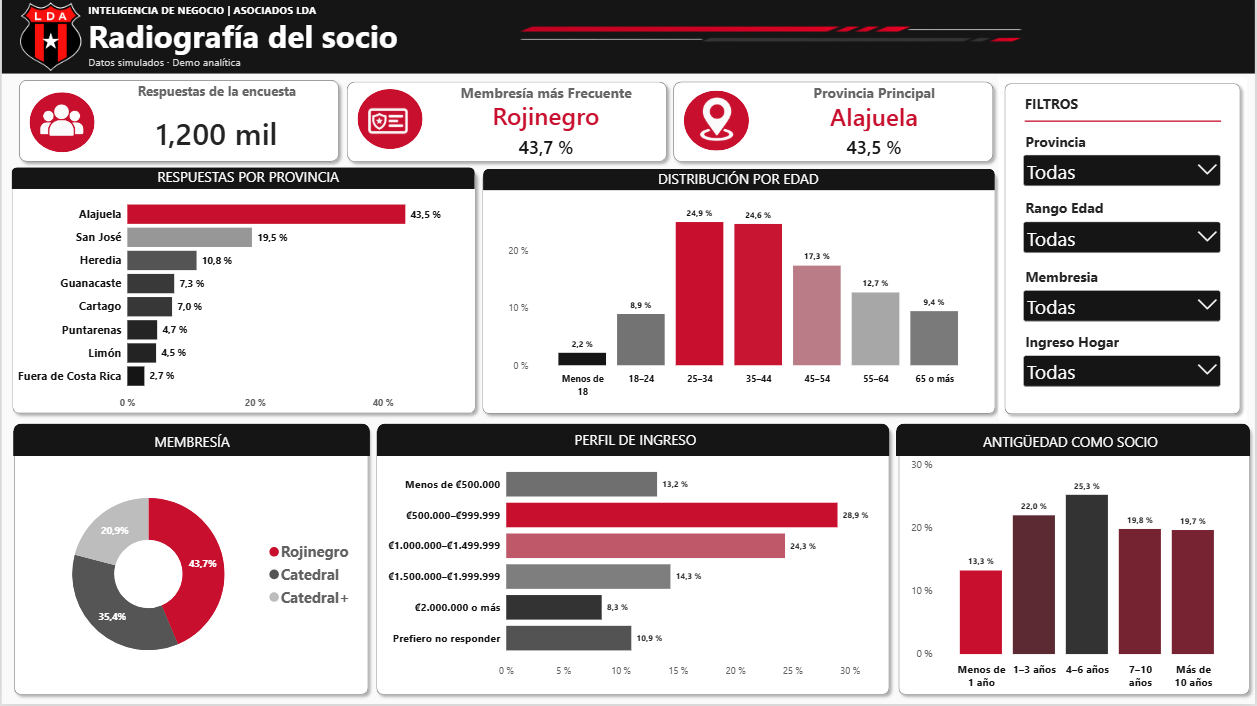

The dashboard page shown, as its layout file describes it:
{"tool":"powerbi","page":{"name":"Radiografía del socio","canvas":[1920,1080],"ordinal":0},"visuals":[{"type":"group","id":"g1","title":"Grupo 1","box":[1527.9,119.3,379.4,524.9],"z":0,"group":"g11"},{"type":"shape","title":"hdhhdhth","box":[1527.9,119.3,379.4,524.9],"z":0,"group":"g1"},{"type":"group","id":"g2","title":"Grupo 1","box":[7.2,252.9,727.7,391.3],"z":0,"group":"g10"},{"type":"shape","title":"hdhhdhth","box":[7.2,252.9,727.7,391.3],"z":0,"group":"g2"},{"type":"shape","title":"hdhhdhth","box":[726.8,255.3,803.8,389.2],"z":0,"group":"g3"},{"type":"group","id":"g3","title":"Grupo 1","box":[726.8,255.3,803.8,389.2],"z":0,"group":"g9"},{"type":"group","id":"g4","title":"Grupo 1","box":[9.5,644.2,560.7,429.5],"z":0,"group":"g8"},{"type":"shape","title":"hdhhdhth","box":[9.5,644.2,560.7,429.5],"z":0,"group":"g4"},{"type":"shape","title":"hdhhdhth","box":[565.9,644.2,804.1,429.5],"z":0,"group":"g6"},{"type":"group","id":"g5","title":"Grupo 2","box":[565.9,644.2,804.1,429.5],"z":0},{"type":"group","id":"g6","title":"Grupo 1","box":[565.9,644.2,804.1,429.5],"z":0,"group":"g5"},{"type":"group","id":"g7","title":"Grupo 1","box":[1365.5,644.2,555.9,429.5],"z":0,"group":"g12"},{"type":"shape","title":"hdhhdhth","box":[1365.5,644.2,555.9,429.5],"z":0,"group":"g7"},{"type":"shape","box":[15.6,257.6,710,33.5],"z":1000,"group":"g2"},{"type":"textbox","box":[200.4,257.6,355,33.5],"z":1000,"group":"g10"},{"type":"shape","box":[736,259.9,784.2,33.3],"z":1000,"group":"g3"},{"type":"textbox","box":[931.3,259.9,392.1,33.3],"z":1000,"group":"g9"},{"type":"group","id":"g8","title":"Grupo 2","box":[9.5,644.2,560.7,429.5],"z":1000},{"type":"shape","box":[15.7,649.4,546.9,50],"z":1000,"group":"g4"},{"type":"shape","box":[575,649.4,785.3,49.8],"z":1000,"group":"g6"},{"type":"shape","box":[1370.3,649.4,542.9,49.8],"z":1000,"group":"g7"},{"type":"textbox","box":[780.6,658.7,381.6,28.9],"z":1000,"group":"g5"},{"type":"textbox","box":[151.6,660.7,278.1,32.3],"z":1000,"group":"g8"},{"type":"textbox","box":[1443.1,660.7,389.4,35.6],"z":1000,"group":"g12"},{"type":"group","id":"g9","title":"Grupo 2","box":[726.8,255.3,804.1,388.9],"z":2000},{"type":"group","id":"g10","title":"Grupo 2","box":[7.2,252.9,727.7,391.3],"z":3000},{"type":"shape","box":[1021.2,116.9,508.2,140.8],"z":4000},{"type":"shape","box":[520.1,116.9,508.2,140.8],"z":5000},{"type":"shape","box":[16.7,114.5,508.2,143.2],"z":6000},{"type":"shape","box":[0,0,1920.7,114],"z":7000},{"type":"textbox","box":[133.6,4.8,560.7,33.4],"z":8000},{"type":"textbox","box":[133.6,21.5,560.7,64.4],"z":9000},{"type":"textbox","box":[133.6,85.9,248.1,21.5],"z":10000},{"type":"cardVisual","title":"Respuestas de la encuesta","fields":{"Data":["EncuestaSociosTable.Total_Respuestas"]},"box":[152.7,126.5,348.3,112.1],"z":11000},{"type":"cardVisual","title":"Membresía más Frecuente","fields":{"Data":["EncuestaSociosTable.Membresia_Mas_Frecuente","EncuestaSociosTable.%_Membresia_Mas_Frecuente"]},"box":[660.9,126.5,348.3,121.7],"z":12000},{"type":"cardVisual","fields":{"Data":["EncuestaSociosTable.Provincia_Mas_Frecuente"]},"box":[1500.7,205.2,405.6,138.4],"z":13000},{"type":"clusteredBarChart","title":"Respuestas por provincia","fields":{"Category":["EncuestaSociosTable.Provincia"],"Y":["EncuestaSociosTable.%_Respuestas_Provincia"]},"box":[7.5,292.5,707.5,341.5],"z":14000},{"type":"shape","box":[42,143.5,100,92.3],"z":15000},{"type":"clusteredColumnChart","fields":{"Category":["EncuestaSociosTable.Rango_Edad"],"Y":["EncuestaSociosTable.%_Respuestas_Edad"]},"box":[761.1,293.5,758.7,336.4],"z":16000},{"type":"donutChart","fields":{"Category":["EncuestaSociosTable.Membresia"],"Y":["EncuestaSociosTable.Total_Respuestas"]},"box":[26,699,536.5,361.5],"z":17000},{"type":"clusteredBarChart","fields":{"Category":["EncuestaSociosTable.Ingreso_Hogar"],"Y":["EncuestaSociosTable.%_Respuestas_Ingreso"]},"box":[575,697.4,785.5,363.2],"z":18000},{"type":"image","box":[53.1,121.2,76.3,133.6],"z":19000},{"type":"shape","box":[544.6,137.8,100,92.3],"z":20000},{"type":"image","box":[555.4,118.9,74,133.6],"z":21000},{"type":"shape","box":[1045,139.7,100,92.3],"z":22000},{"type":"image","box":[1059.3,119.3,76.3,128.8],"z":23000},{"type":"group","id":"g11","title":"Grupo 2","box":[1527.9,119.3,379.4,524.9],"z":24000},{"type":"image","box":[7.2,0,133.6,121.7],"z":25000},{"type":"group","id":"g12","title":"Grupo 2","box":[1365.5,644.2,555.9,429.5],"z":26000},{"type":"slicer","fields":{"Values":["EncuestaSociosTable.Provincia"]},"box":[1560.4,203.6,312.6,116.9],"z":27000},{"type":"slicer","fields":{"Values":["EncuestaSociosTable.Rango_Edad"]},"box":[1560.4,303.8,312.6,116.9],"z":28000},{"type":"slicer","fields":{"Values":["EncuestaSociosTable.Membresia"]},"box":[1560.4,408.8,312.6,116.9],"z":29000},{"type":"slicer","fields":{"Values":["EncuestaSociosTable.Ingreso_Hogar"]},"box":[1560.4,509,312.6,116.9],"z":30000},{"type":"columnChart","fields":{"Category":["EncuestaSociosTable.Antiguedad"],"Y":["EncuestaSociosTable.%_Respuestas_Antiguedad"]},"box":[1377.6,702.6,530.3,357.9],"z":31000},{"type":"image","box":[780.2,0,796.9,114.5],"z":32000},{"type":"cardVisual","title":"Provincia Principal","fields":{"Data":["Min(EncuestaSociosTable.Provincia)","EncuestaSociosTable.%_Provincia_Mas_Frecuente"]},"box":[1161.9,126.5,348.3,121.7],"z":33000},{"type":"textbox","box":[1567.5,145.5,272,42.9],"z":34000},{"type":"shape","box":[1567.5,174.2,300.6,23.9],"z":35000}]}

Visuals, with their boxes in screenshot pixels (x1, y1, x2, y2), scaled from the page's 1920x1080 canvas onto the 1257x706 screenshot:
"Grupo 1" group: crop(1000, 78, 1249, 421)
"hdhhdhth" shape: crop(1000, 78, 1249, 421)
"Grupo 1" group: crop(5, 165, 481, 421)
"hdhhdhth" shape: crop(5, 165, 481, 421)
"hdhhdhth" shape: crop(476, 167, 1002, 421)
"Grupo 1" group: crop(476, 167, 1002, 421)
"Grupo 1" group: crop(6, 421, 373, 702)
"hdhhdhth" shape: crop(6, 421, 373, 702)
"hdhhdhth" shape: crop(370, 421, 897, 702)
"Grupo 2" group: crop(370, 421, 897, 702)
"Grupo 1" group: crop(370, 421, 897, 702)
"Grupo 1" group: crop(894, 421, 1256, 702)
"hdhhdhth" shape: crop(894, 421, 1256, 702)
shape: crop(10, 168, 475, 190)
textbox: crop(131, 168, 364, 190)
shape: crop(482, 170, 995, 192)
textbox: crop(610, 170, 866, 192)
"Grupo 2" group: crop(6, 421, 373, 702)
shape: crop(10, 425, 368, 457)
shape: crop(376, 425, 891, 457)
shape: crop(897, 425, 1253, 457)
textbox: crop(511, 431, 761, 449)
textbox: crop(99, 432, 281, 453)
textbox: crop(945, 432, 1200, 455)
"Grupo 2" group: crop(476, 167, 1002, 421)
"Grupo 2" group: crop(5, 165, 481, 421)
shape: crop(669, 76, 1001, 168)
shape: crop(341, 76, 673, 168)
shape: crop(11, 75, 344, 168)
shape: crop(0, 0, 1256, 75)
textbox: crop(87, 3, 455, 25)
textbox: crop(87, 14, 455, 56)
textbox: crop(87, 56, 250, 70)
"Respuestas de la encuesta" cardVisual: crop(100, 83, 328, 156)
"Membresía más Frecuente" cardVisual: crop(433, 83, 661, 162)
cardVisual - EncuestaSociosTable.Provincia_Mas_Frecuente: crop(982, 134, 1248, 225)
"Respuestas por provincia" clusteredBarChart: crop(5, 191, 468, 414)
shape: crop(27, 94, 93, 154)
clusteredColumnChart - EncuestaSociosTable.Rango_Edad x EncuestaSociosTable.%_Respuestas_Edad: crop(498, 192, 995, 412)
donutChart - EncuestaSociosTable.Membresia x EncuestaSociosTable.Total_Respuestas: crop(17, 457, 368, 693)
clusteredBarChart - EncuestaSociosTable.Ingreso_Hogar x EncuestaSociosTable.%_Respuestas_Ingreso: crop(376, 456, 891, 693)
image: crop(35, 79, 85, 167)
shape: crop(357, 90, 422, 150)
image: crop(364, 78, 412, 165)
shape: crop(684, 91, 750, 152)
image: crop(694, 78, 743, 162)
"Grupo 2" group: crop(1000, 78, 1249, 421)
image: crop(5, 0, 92, 80)
"Grupo 2" group: crop(894, 421, 1256, 702)
slicer - EncuestaSociosTable.Provincia: crop(1022, 133, 1226, 210)
slicer - EncuestaSociosTable.Rango_Edad: crop(1022, 199, 1226, 275)
slicer - EncuestaSociosTable.Membresia: crop(1022, 267, 1226, 344)
slicer - EncuestaSociosTable.Ingreso_Hogar: crop(1022, 333, 1226, 409)
columnChart - EncuestaSociosTable.Antiguedad x EncuestaSociosTable.%_Respuestas_Antiguedad: crop(902, 459, 1249, 693)
image: crop(511, 0, 1033, 75)
"Provincia Principal" cardVisual: crop(761, 83, 989, 162)
textbox: crop(1026, 95, 1204, 123)
shape: crop(1026, 114, 1223, 129)
